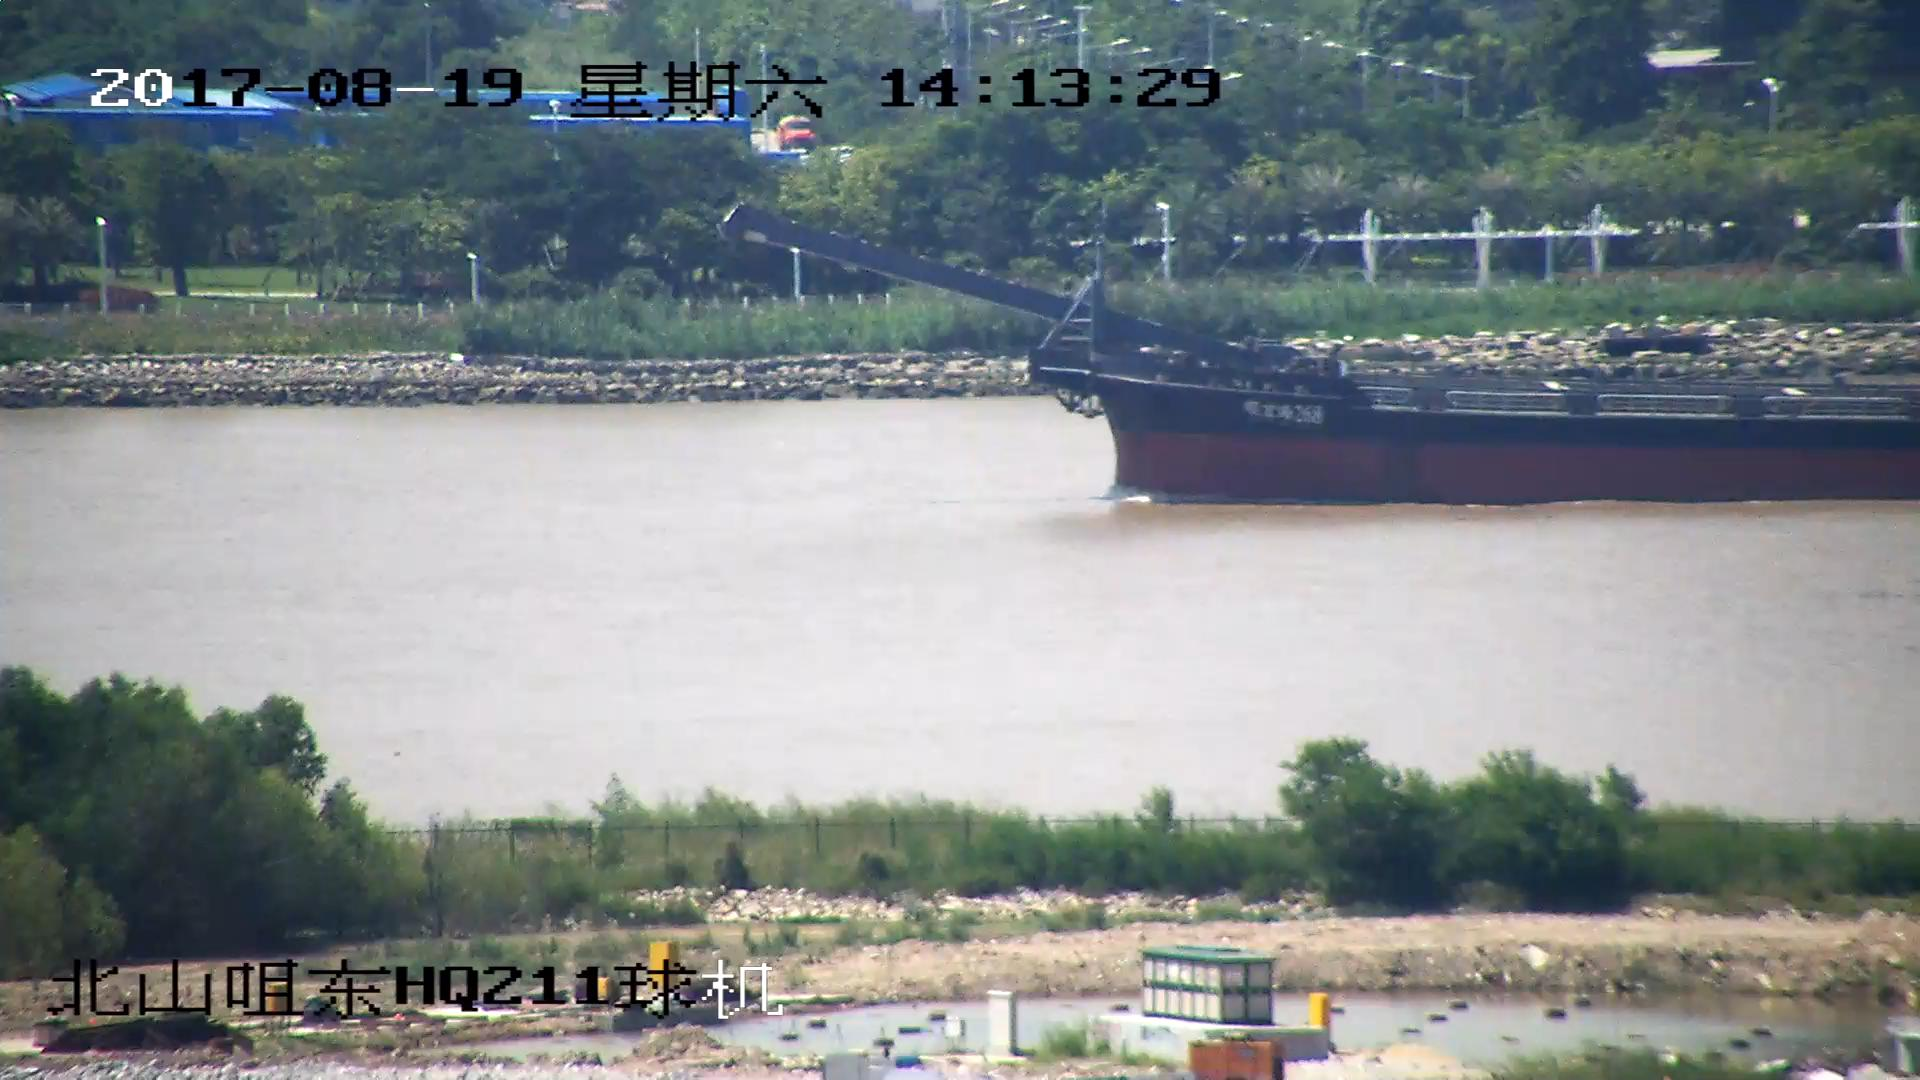bulk cargo carrier: (728, 211, 1920, 503)
